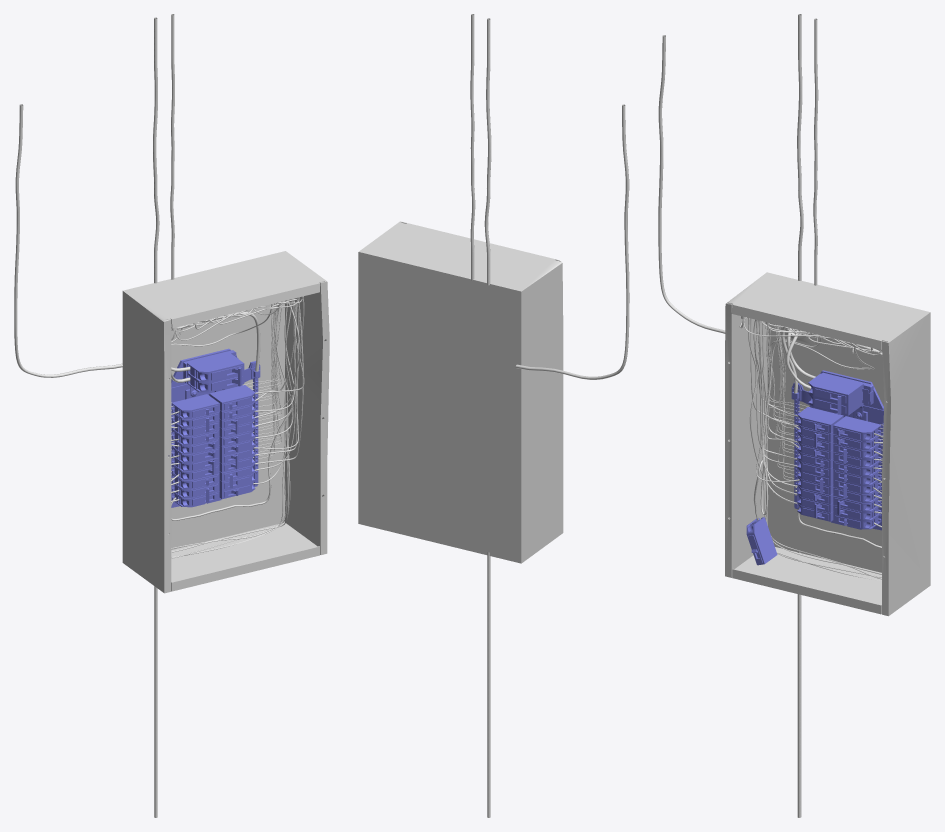
The model's file is distribution_box.glb.
3 views of the same model, side by side, from view 1: azimuth 30°, elevation 25°; view 2: azimuth 150°, elevation 25°; view 3: azimuth 330°, elevation 25° (orthographic).
Parts seen in each view (by area): view 1: Distribution_Box; view 2: Distribution_Box; view 3: Distribution_Box.
Part boxes in pixels (box(x1,y1,x2,y2)): Distribution_Box: box(14, 14, 329, 817); Distribution_Box: box(358, 14, 629, 817); Distribution_Box: box(658, 14, 930, 817).
Size of the model in its own units: 0.8574 by 2.39 by 0.24.
